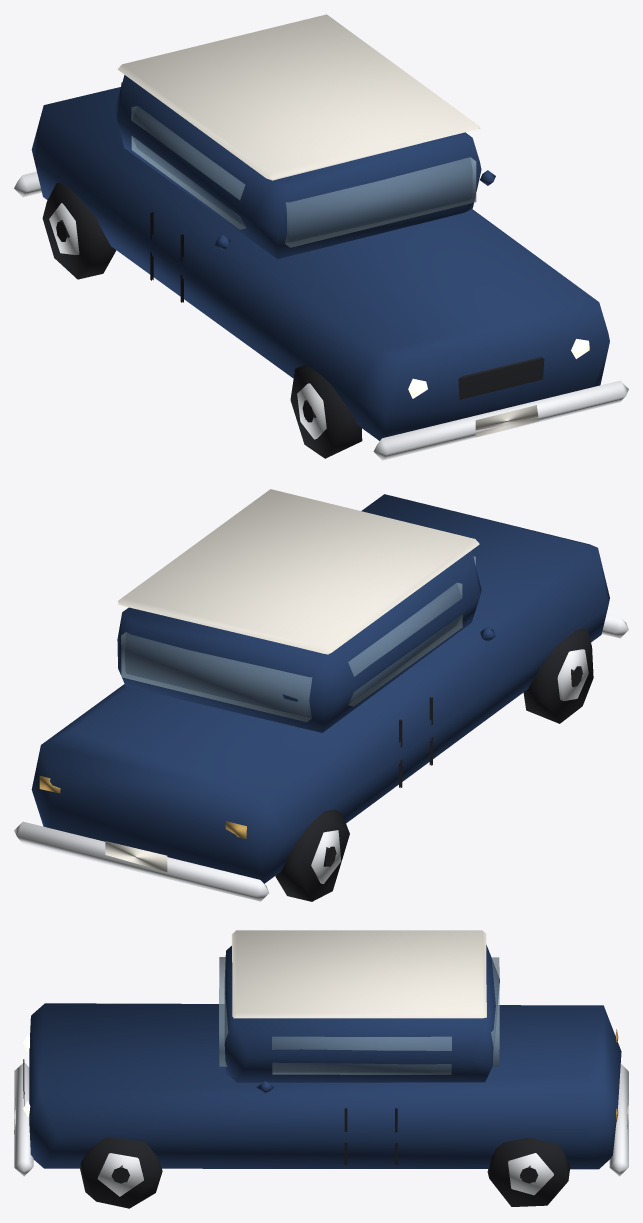
File: lod_car_sedan.glb
3 views of the same model, one above another, from view 1: azimuth 30°, elevation 25°; view 2: azimuth 150°, elevation 25°; view 3: azimuth 270°, elevation 25° (orthographic). The views are drawn at different scales.
Visible parts, largest first — view 1: car_sedan; view 2: car_sedan; view 3: car_sedan.
Part boxes in pixels (bbox=[...]): car_sedan: bbox=[14, 14, 628, 460]; car_sedan: bbox=[14, 489, 628, 901]; car_sedan: bbox=[14, 930, 628, 1208].
Size of the model in its own units: 2 by 1.53 by 4.56.
